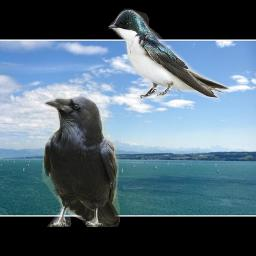Crow: (42, 95, 120, 227)
Swallow: (108, 8, 230, 102)
